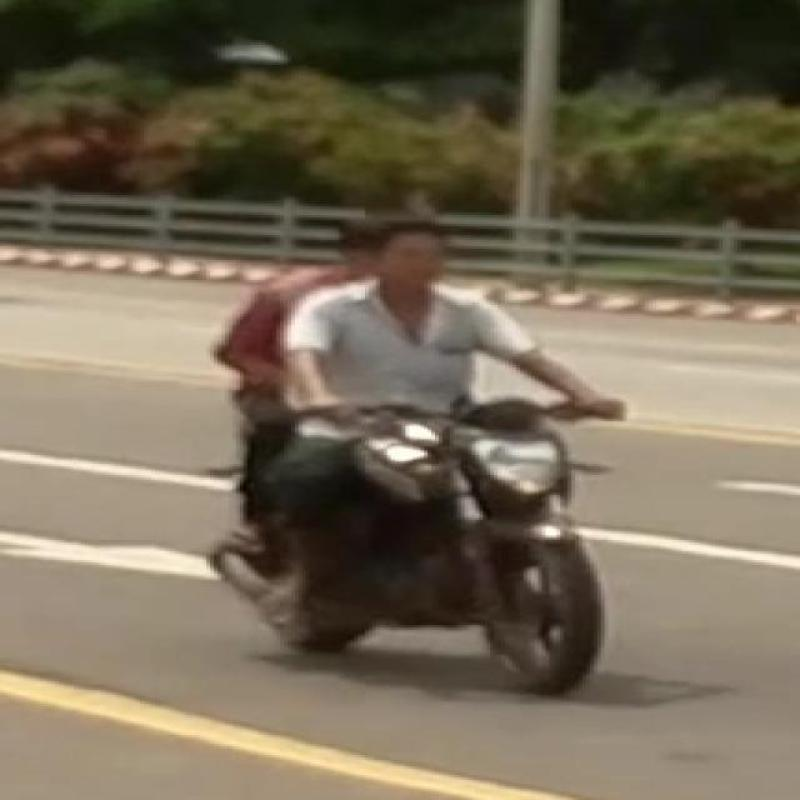nohelmet: (334, 199, 474, 315)
